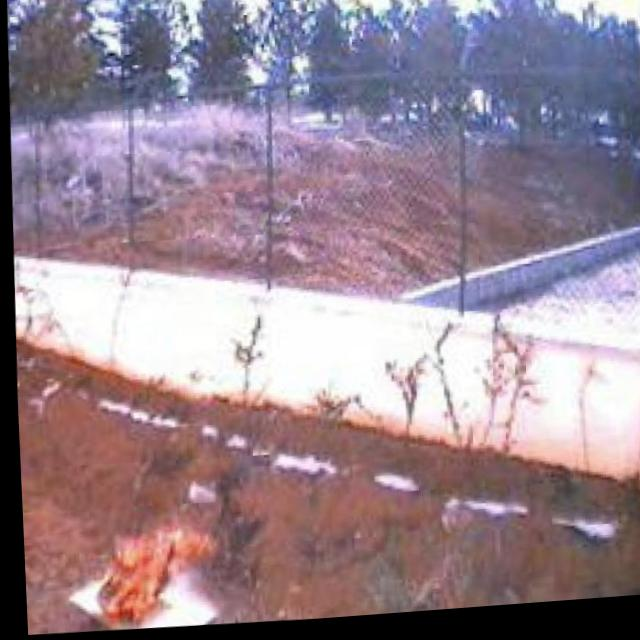Fire: (88, 513, 218, 634)
